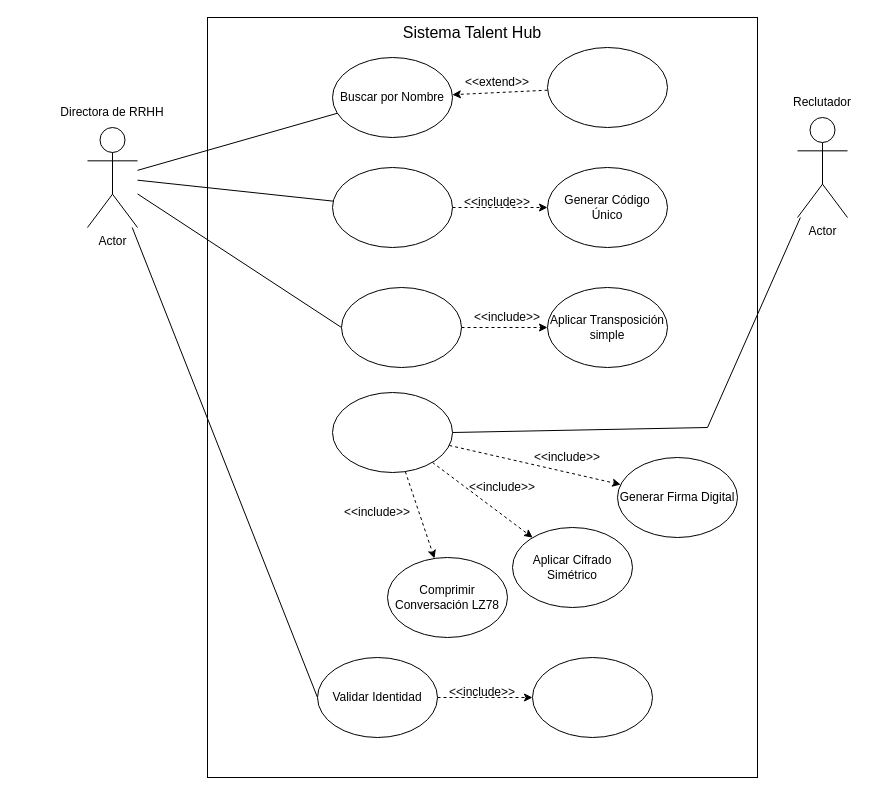
The diagram is 869 pixels wide and 795 high, and some of its shapes have lost their labels. The shapes that lost their labels are listed below. From the top down, each one's centre as x and y in pixels, then its label:
the point at 607,87: Búsqueda por Criterios Adicionales
the point at 392,207: Codificar DPI
the point at 401,327: Comprimir Cartas de Recomendaciones
the point at 392,432: Cifrar Conversaciones
the point at 592,697: Generación de Contraseña Única
